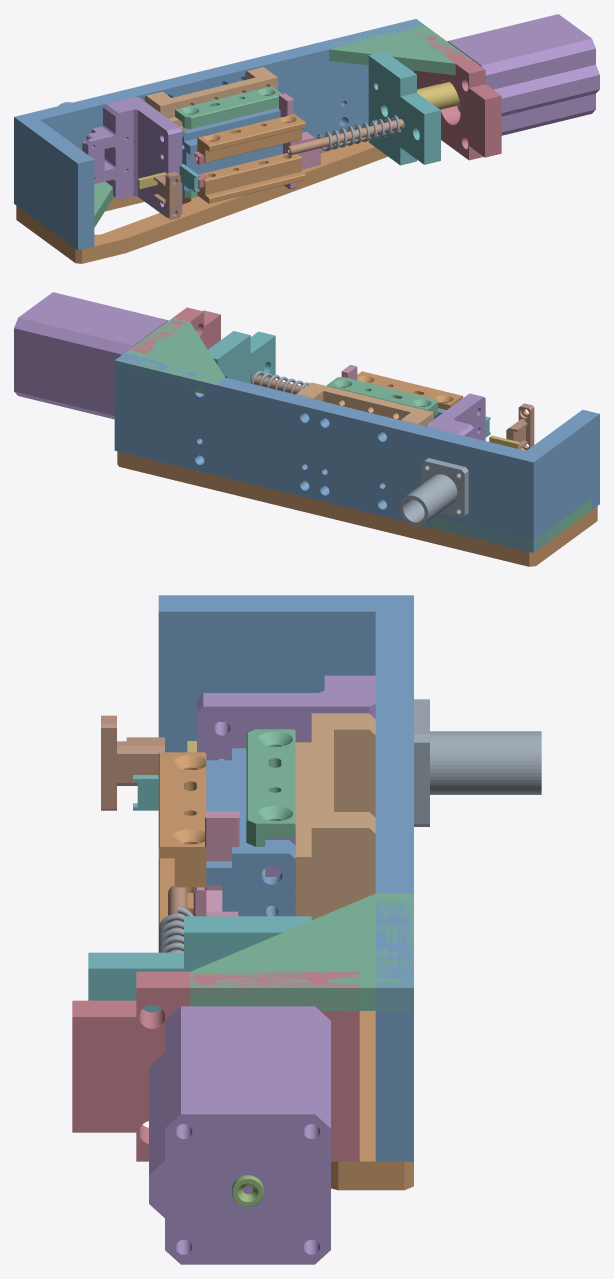
3 views of the same model, one above another, from view 1: azimuth 30°, elevation 25°; view 2: azimuth 150°, elevation 25°; view 3: azimuth 270°, elevation 25° (orthographic). The views are drawn at different scales.
Visible parts, largest first — view 1: part_14_0_0, part_05_5_0, part_15_1_0, part_09_20_0, part_21_7_0, part_16_4_0, part_03_3_0, part_01_14_0, part_01_15_0, part_10_13_0, part_04_17_0, part_13_12_0 (+7 smaller); view 2: part_14_0_0, part_05_5_0, part_15_1_0, part_03_3_0, part_19_24_0, part_21_7_0, part_13_12_0, part_03_2_0, part_09_20_0, part_16_4_0, part_04_17_0, part_01_15_0 (+2 smaller); view 3: part_05_5_0, part_14_0_0, part_16_4_0, part_03_3_0, part_13_12_0, part_19_24_0, part_09_20_0, part_10_13_0, part_21_7_0, part_01_15_0, part_04_17_0, part_15_1_0 (+4 smaller).
Part boxes in pixels (bbox=[...]): part_14_0_0: bbox=[14, 19, 424, 250]; part_05_5_0: bbox=[447, 14, 599, 135]; part_15_1_0: bbox=[16, 137, 387, 263]; part_09_20_0: bbox=[82, 97, 182, 217]; part_21_7_0: bbox=[368, 51, 440, 165]; part_16_4_0: bbox=[413, 32, 501, 160]; part_03_3_0: bbox=[326, 19, 471, 75]; part_01_14_0: bbox=[197, 153, 305, 203]; part_01_15_0: bbox=[197, 114, 305, 162]; part_10_13_0: bbox=[182, 107, 300, 191]; part_04_17_0: bbox=[175, 86, 281, 128]; part_13_12_0: bbox=[144, 67, 277, 130]; part_14_0_0: bbox=[114, 353, 599, 552]; part_05_5_0: bbox=[14, 292, 168, 419]; part_15_1_0: bbox=[117, 451, 597, 566]; part_03_3_0: bbox=[115, 318, 224, 396]; part_19_24_0: bbox=[399, 458, 468, 526]; part_21_7_0: bbox=[208, 331, 275, 383]; part_13_12_0: bbox=[296, 382, 434, 426]; part_03_2_0: bbox=[432, 498, 591, 552]; part_09_20_0: bbox=[426, 393, 485, 440]; part_16_4_0: bbox=[129, 307, 220, 353]; part_04_17_0: bbox=[327, 377, 437, 415]; part_01_15_0: bbox=[357, 371, 463, 409]; part_05_5_0: bbox=[149, 1006, 330, 1264]; part_14_0_0: bbox=[158, 595, 413, 1161]; part_16_4_0: bbox=[72, 971, 359, 1161]; part_03_3_0: bbox=[190, 893, 413, 1010]; part_13_12_0: bbox=[295, 713, 375, 920]; part_19_24_0: bbox=[414, 699, 541, 826]; part_09_20_0: bbox=[197, 675, 375, 876]; part_10_13_0: bbox=[206, 748, 295, 916]; part_21_7_0: bbox=[88, 916, 311, 1012]; part_01_15_0: bbox=[158, 752, 206, 887]; part_04_17_0: bbox=[246, 729, 295, 846]; part_15_1_0: bbox=[331, 1011, 413, 1190].
Size of the model in its own units: 378 by 70 by 147.
